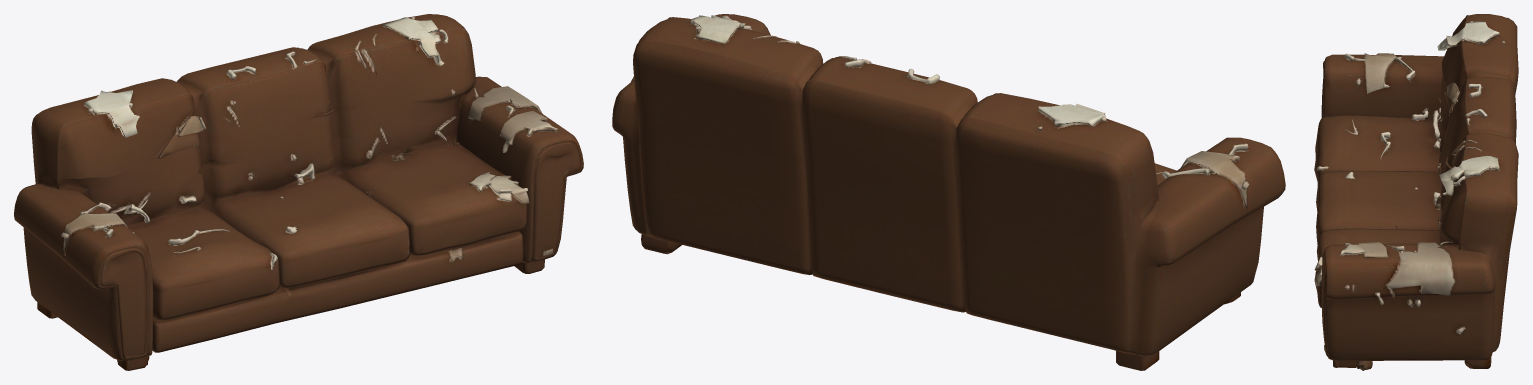
File: Hub_OldSofa.glb
The picture shows the model from 3 angles, left to right: view 1: azimuth 30°, elevation 25°; view 2: azimuth 150°, elevation 25°; view 3: azimuth 270°, elevation 25°; orthographic projection. The views are drawn at different scales.
Parts seen in each view (by area): view 1: tripo_node_a225587d-8db5-4fea-ba33-574b431eec34; view 2: tripo_node_a225587d-8db5-4fea-ba33-574b431eec34; view 3: tripo_node_a225587d-8db5-4fea-ba33-574b431eec34.
Part boxes in pixels (<box>): tripo_node_a225587d-8db5-4fea-ba33-574b431eec34: <box>14,14,583,370</box>; tripo_node_a225587d-8db5-4fea-ba33-574b431eec34: <box>612,14,1285,370</box>; tripo_node_a225587d-8db5-4fea-ba33-574b431eec34: <box>1314,14,1518,370</box>.
Bounding box in the file's own units: 1 × 0.3933 × 0.3972.
Materials: 1 (1 with a texture image).
